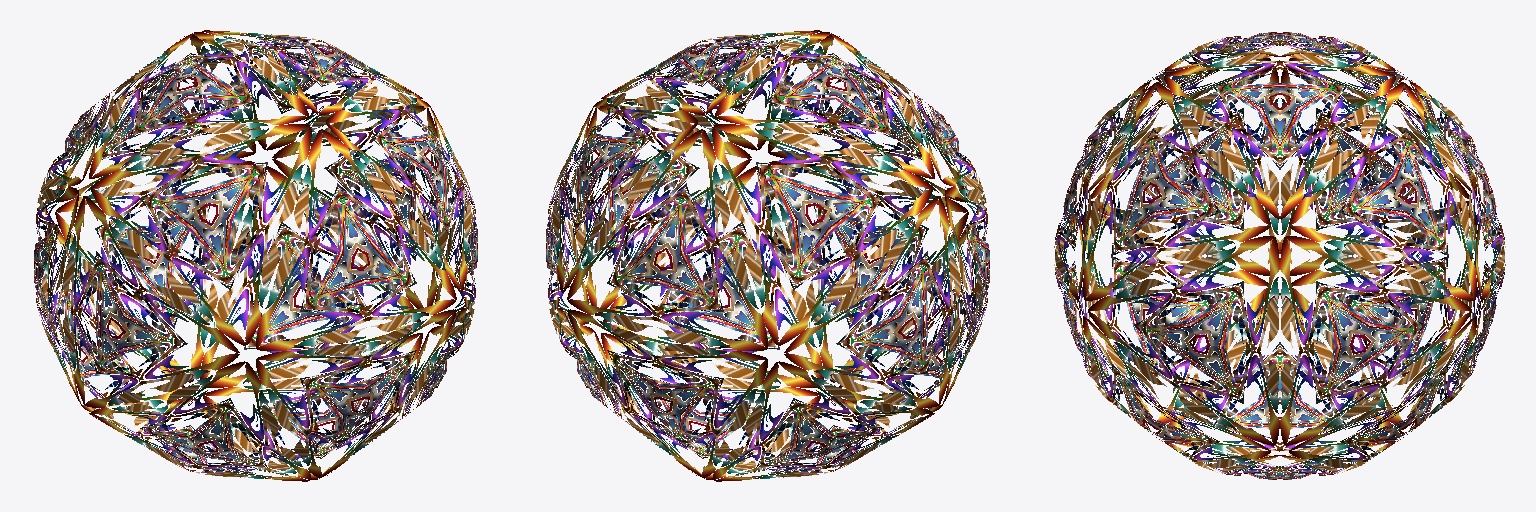
The picture shows the model from 3 angles: view 1: azimuth 30°, elevation 25°; view 2: azimuth 150°, elevation 25°; view 3: azimuth 270°, elevation 25°; orthographic projection.
Size of the model in its own units: 4.47 by 4.47 by 4.47.
Materials: 1 (1 with a texture image).